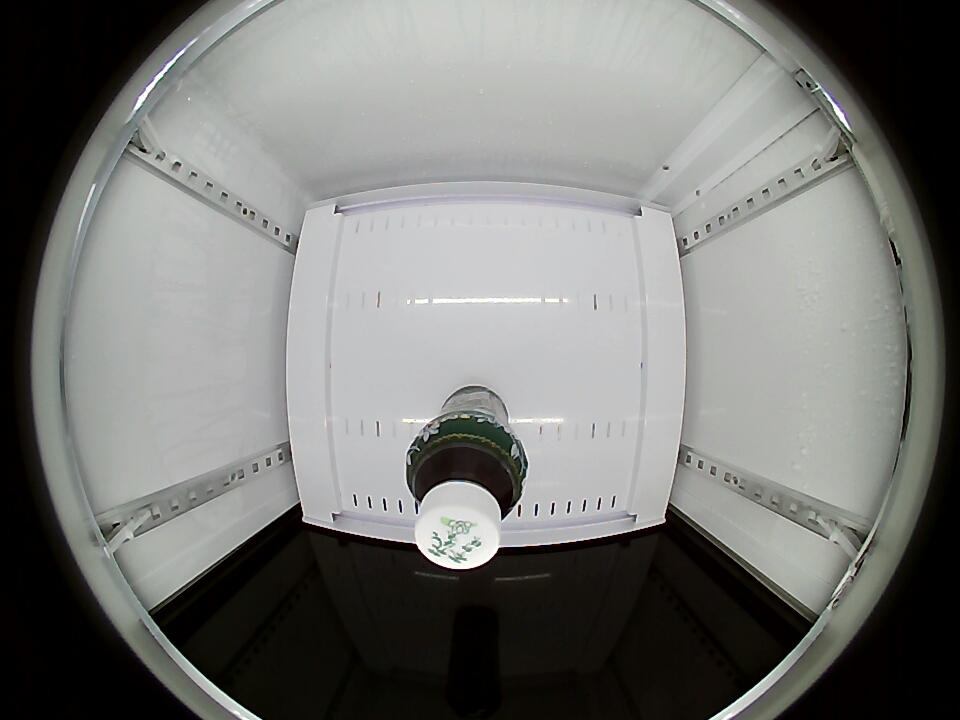moliqingcha: (405, 432, 527, 570)
